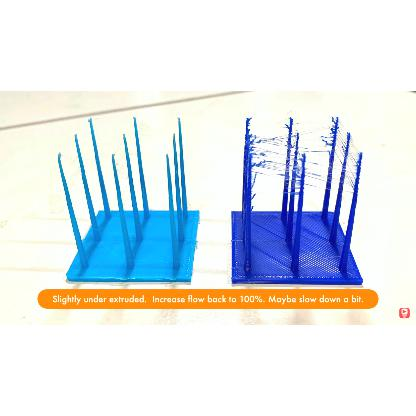fail: (248, 118, 286, 180), (308, 114, 338, 162)
